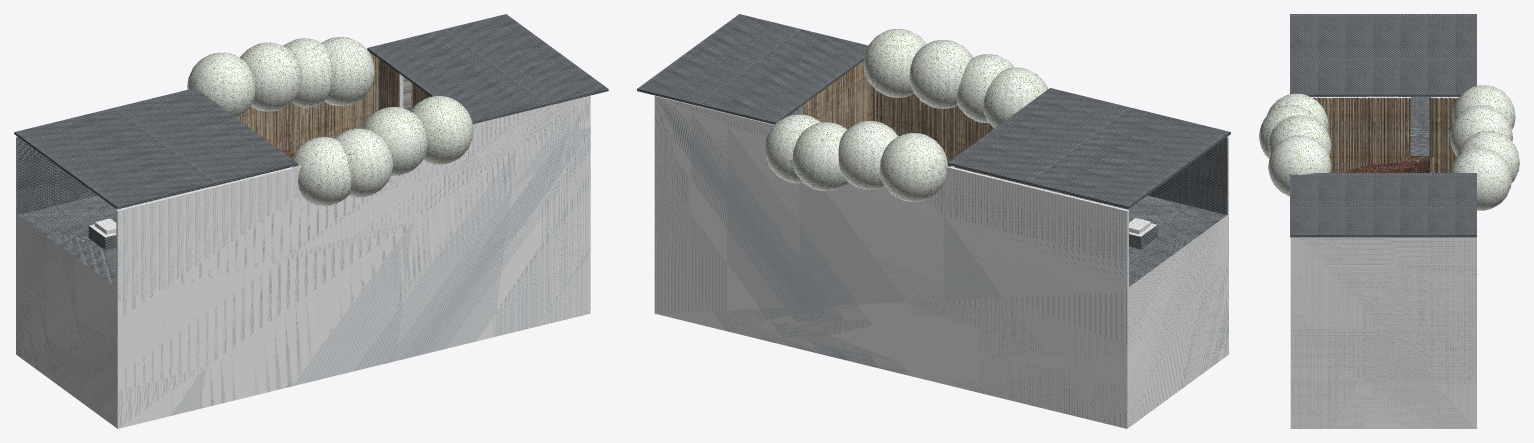
The model's file is room.dae.
3 views of the same model, side by side, from view 1: azimuth 30°, elevation 25°; view 2: azimuth 150°, elevation 25°; view 3: azimuth 270°, elevation 25° (orthographic). The views are drawn at different scales.
Visible parts, largest first — view 1: SketchUp (×3), roof1 (×2), tree_branches (×8); view 2: SketchUp (×3), roof1 (×2), tree_branches (×8); view 3: SketchUp (×5), roof1 (×2), tree_branches (×8).
Boxes of the visible parts, x1,y1,x2,y2 form: SketchUp (×3): (16,51,590,428); roof1 (×2): (14,14,608,208); tree_branches (×8): (187,37,473,205); SketchUp (×3): (654,61,1228,428); roof1 (×2): (637,14,1230,208); tree_branches (×8): (764,29,1047,201); SketchUp (×5): (1290,96,1476,428); roof1 (×2): (1290,14,1476,237); tree_branches (×8): (1259,85,1519,210).
Size of the model in its own units: 1291 by 649 by 619.
10 materials, 7 textured.
